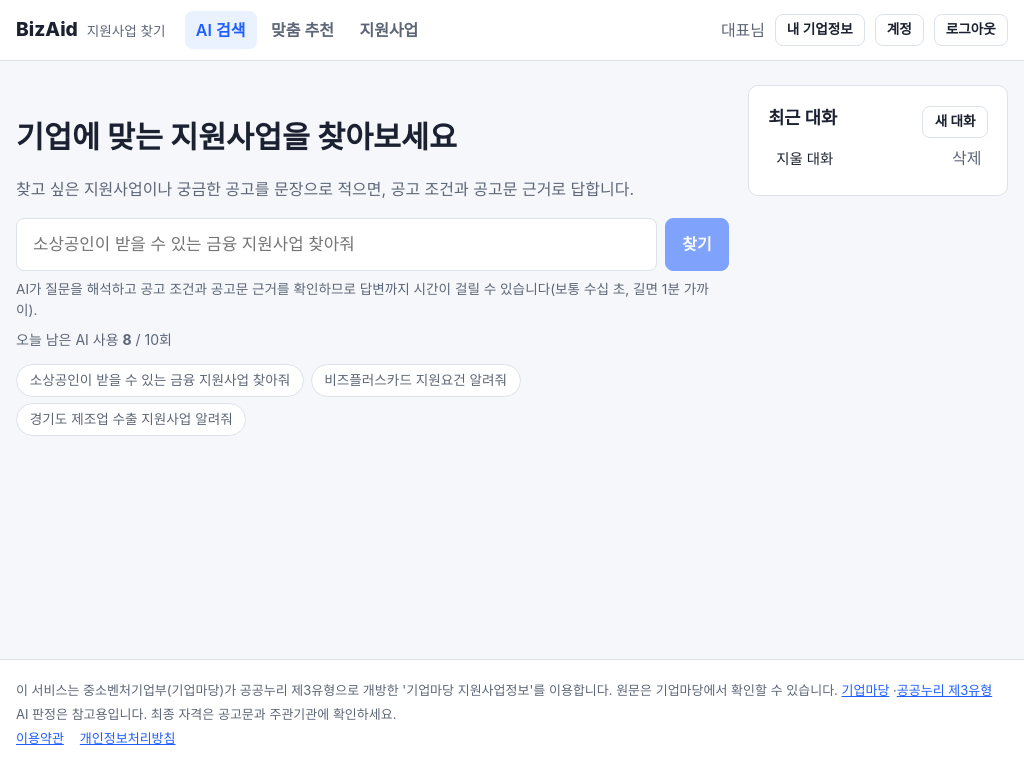
Test case: 대화 목록에서 확인 후 대화를 삭제한다
What coordinates should you click on to do the following:
click the button with aria-label "대화 삭제: 지울 대화"
I would click on:
 (967, 159)
Its box is [946, 143, 988, 174].
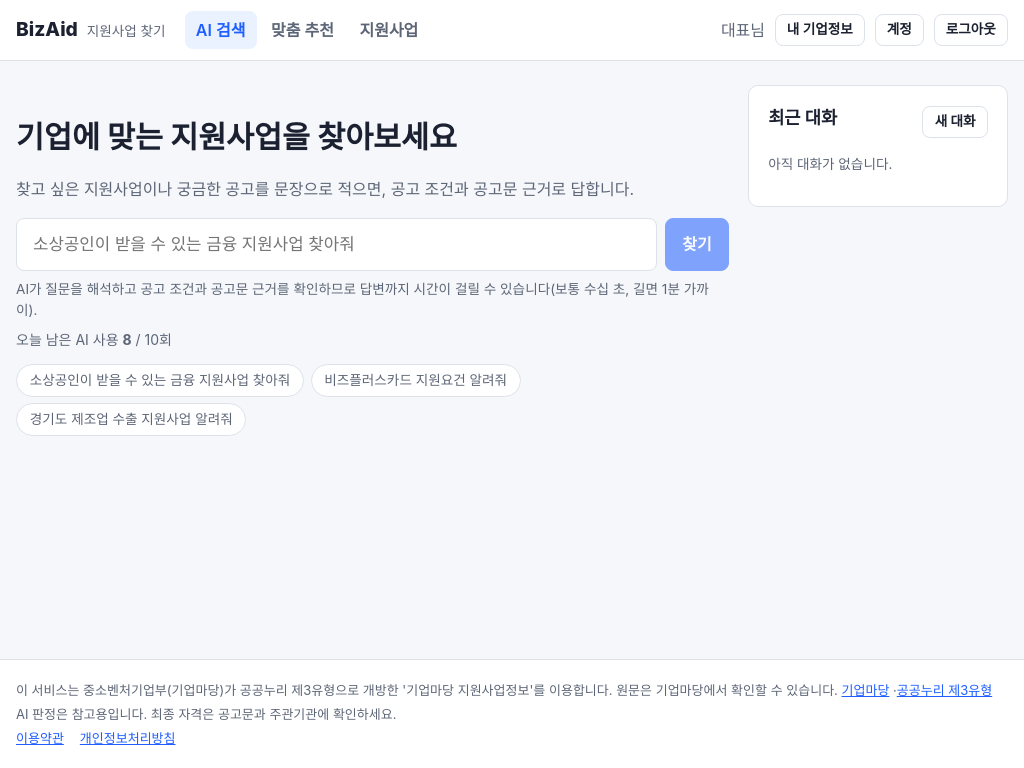
Result: the text "아직 대화가 없습니다." is shown at [768, 156, 892, 172]
